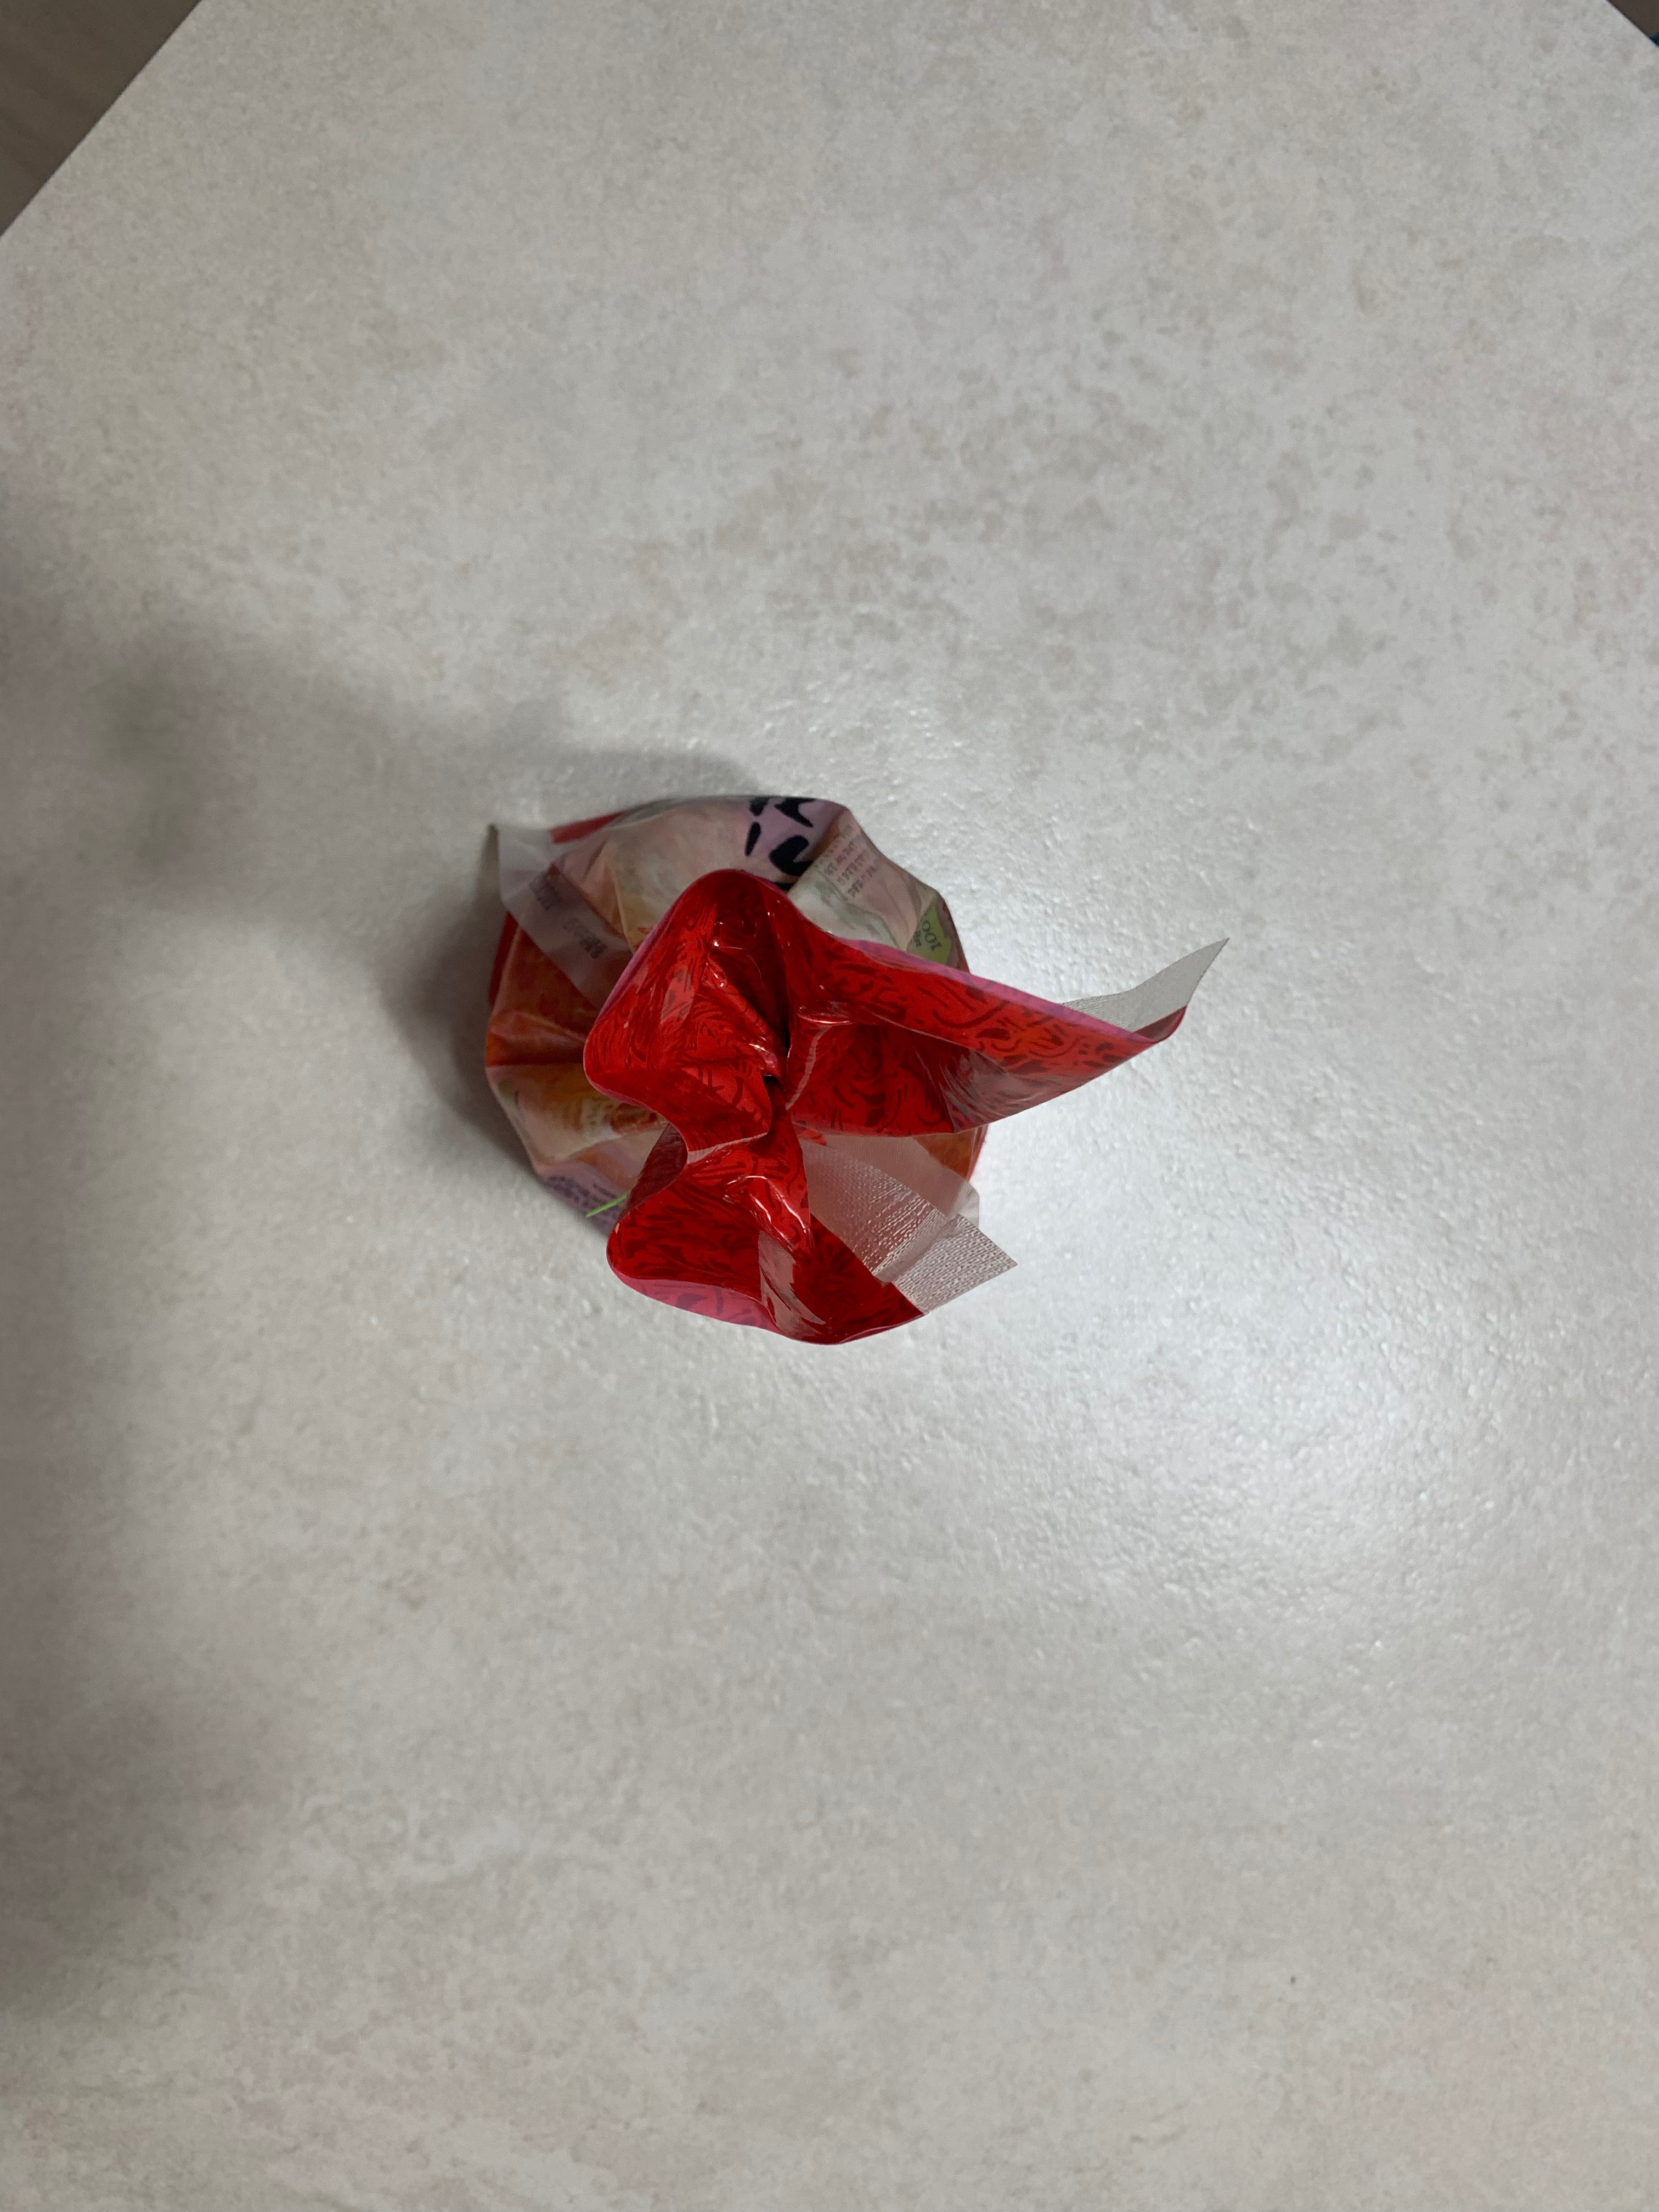kimchi: (479, 796, 1192, 1341)
